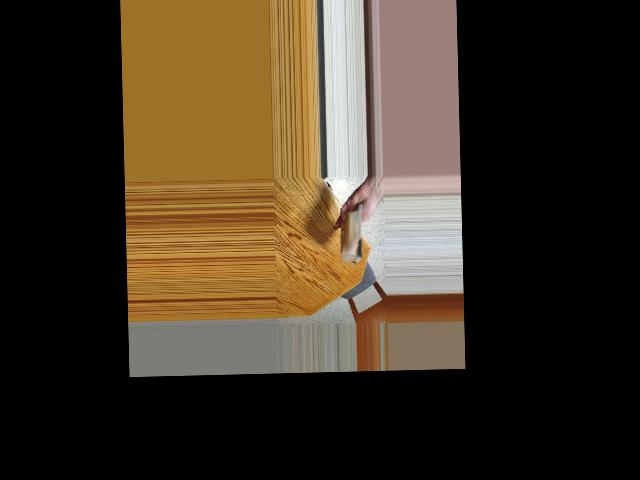cheese: (337, 207, 373, 259)
